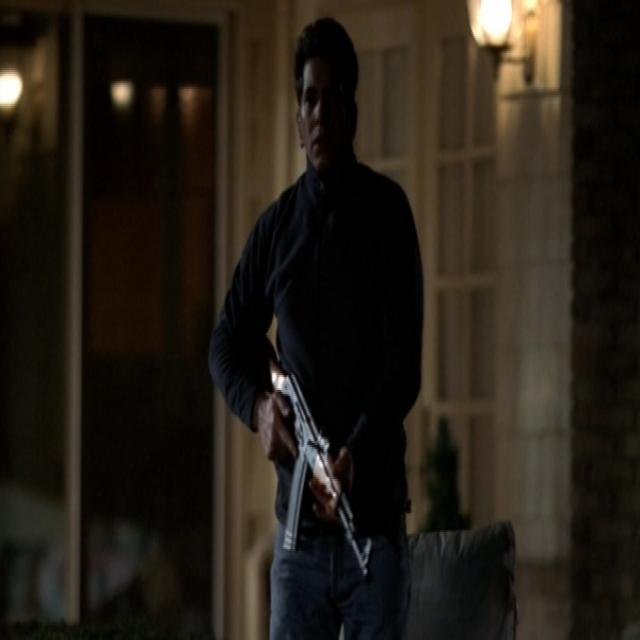rifle: (265, 355, 371, 584)
